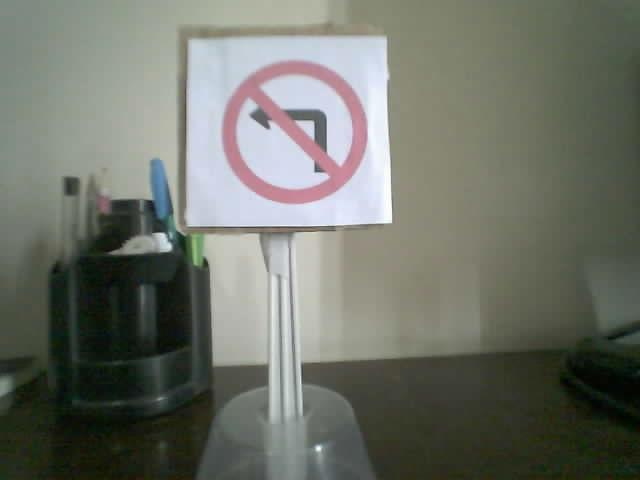R-4a_proibido-esquerda: (221, 59, 366, 204)
